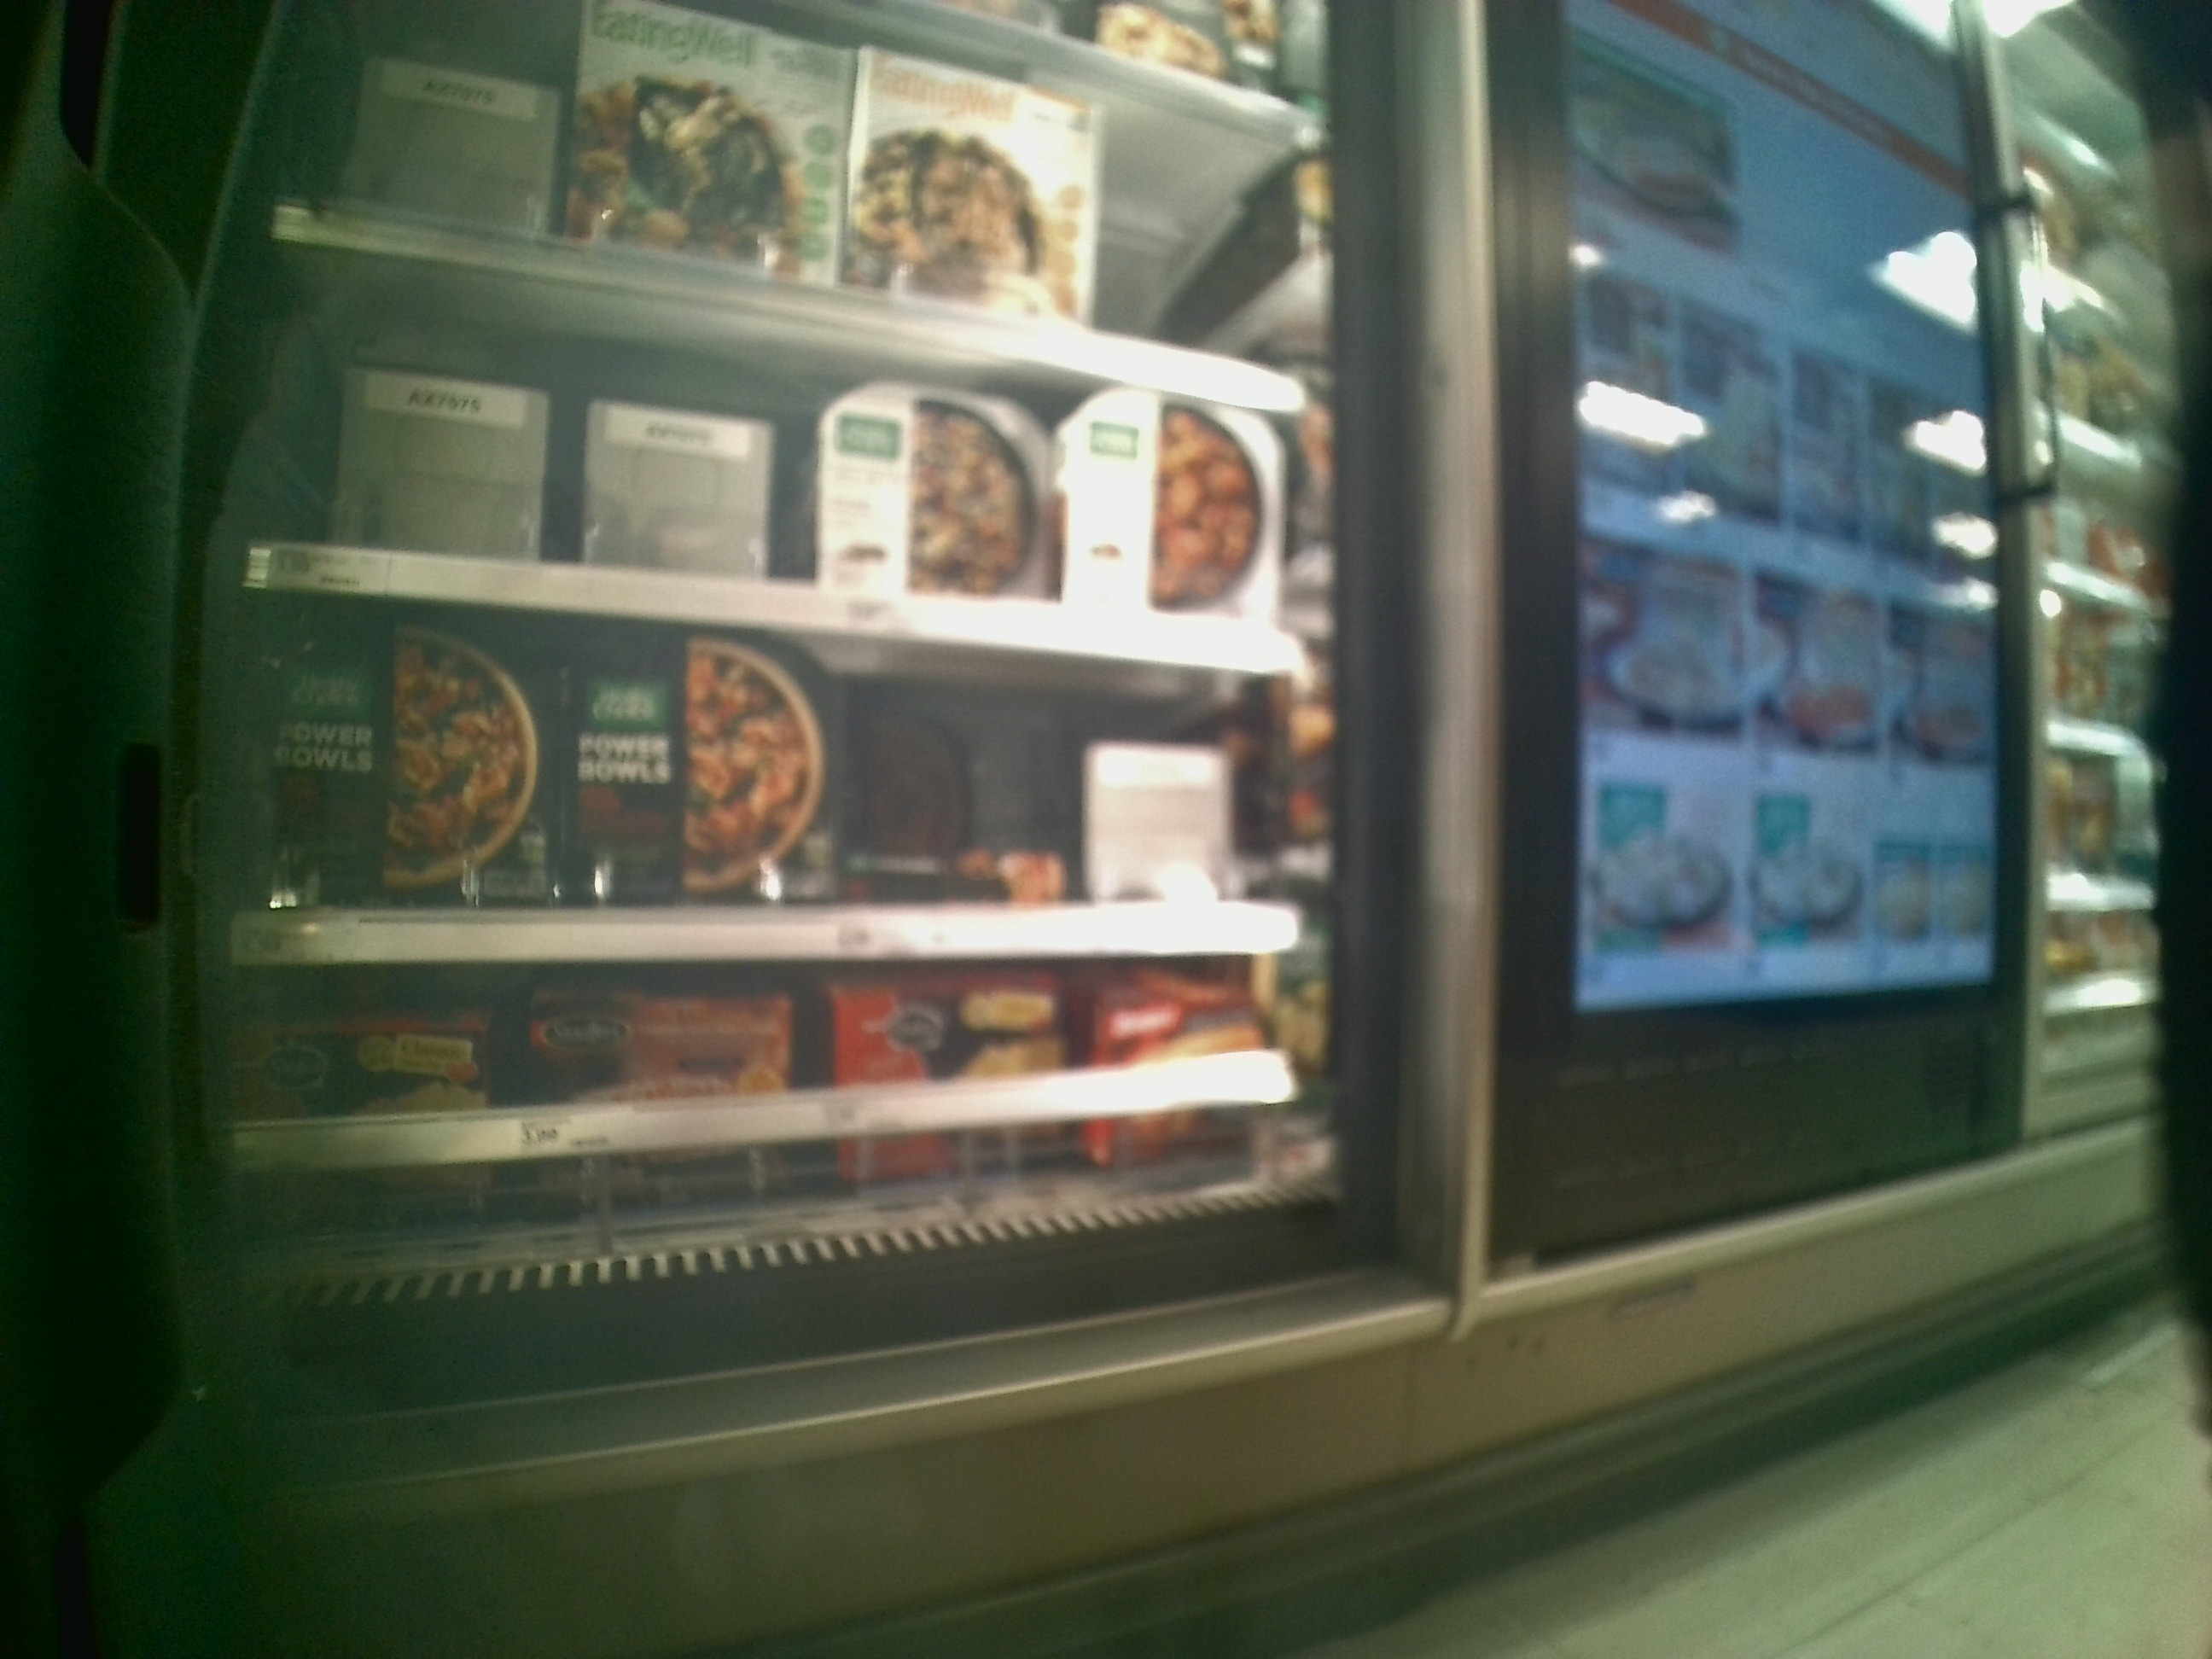shelf: (225, 950, 1371, 1321), (240, 591, 1322, 967)
